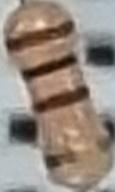Black: (21, 49, 79, 82)
Brown: (5, 17, 76, 54), (32, 84, 93, 116)
Side-Silver: (46, 136, 109, 171)
